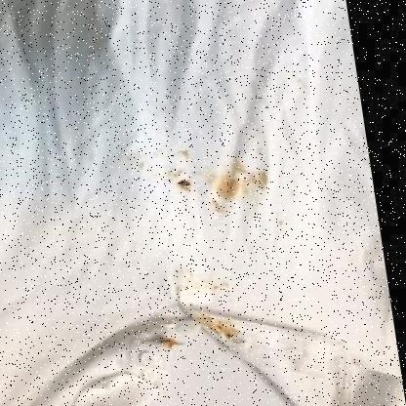coffee: (217, 178, 239, 200), (211, 323, 235, 336)
